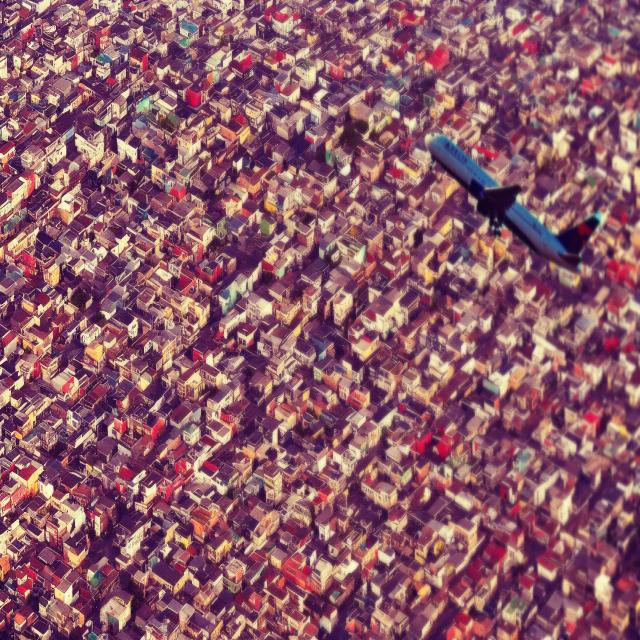airplane: (424, 130, 604, 272)
